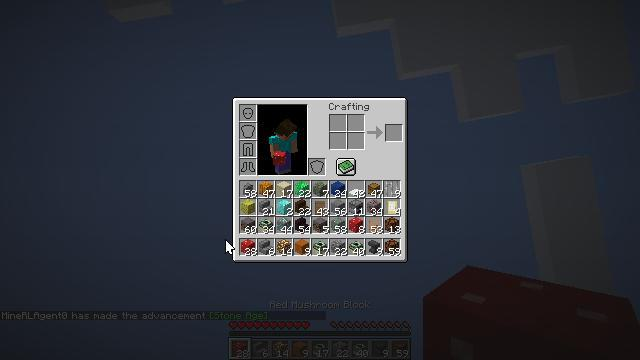cursor: (239, 225, 255, 235)
